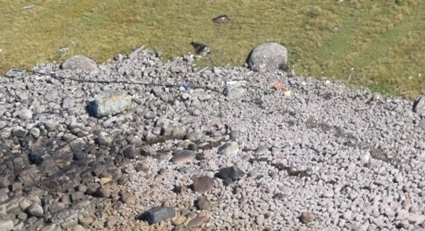scattered_barrel: (271, 70, 309, 98)
tube: (21, 65, 79, 82), (89, 74, 147, 87), (165, 79, 223, 92)
